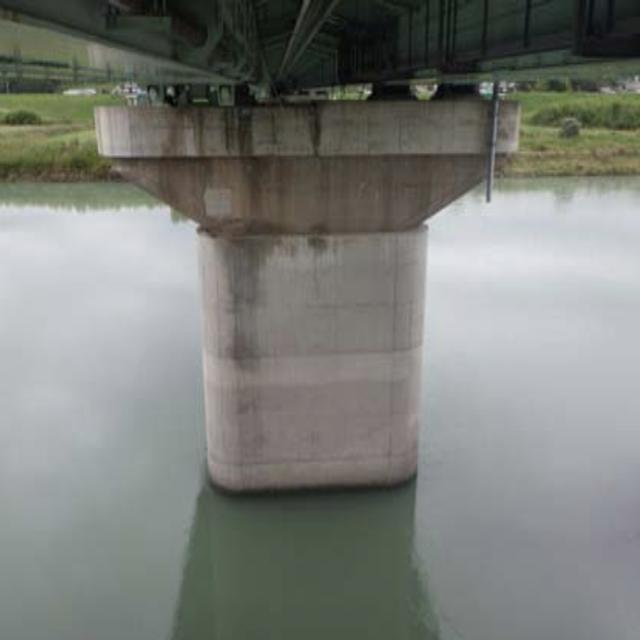leakage: (157, 100, 334, 159)
